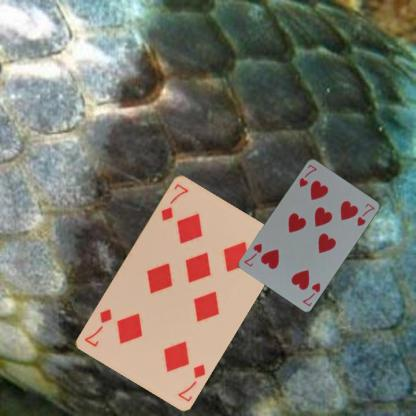7d: (174, 360, 207, 402), (158, 180, 190, 223)
7h: (300, 280, 322, 308), (296, 162, 318, 188)
